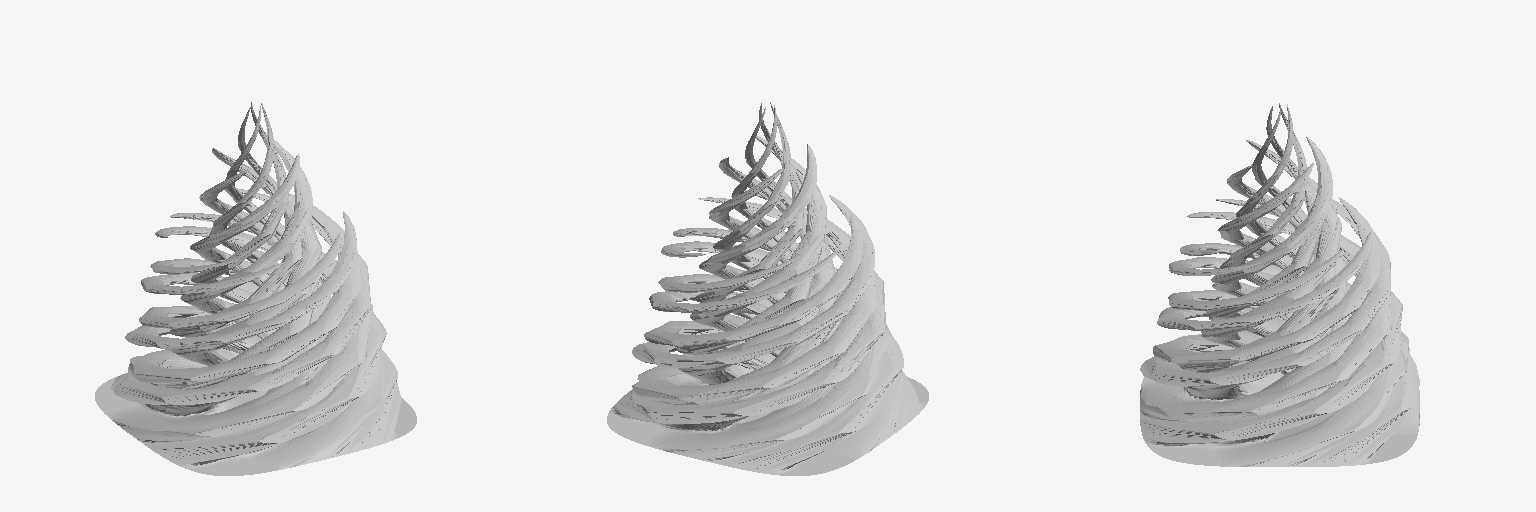
Rendered from angeltrapOLD.obj.
The picture shows the model from 3 angles: view 1: azimuth 30°, elevation 25°; view 2: azimuth 150°, elevation 25°; view 3: azimuth 270°, elevation 25°; orthographic projection.
Visible parts, largest first — view 1: Plane; view 2: Plane; view 3: Plane.
Boxes of the visible parts, x1,y1,x2,y2 form: Plane: [95, 102, 416, 475]; Plane: [607, 102, 928, 475]; Plane: [1140, 103, 1419, 466].
Bounding box in the file's own units: 2 × 2.4 × 2.